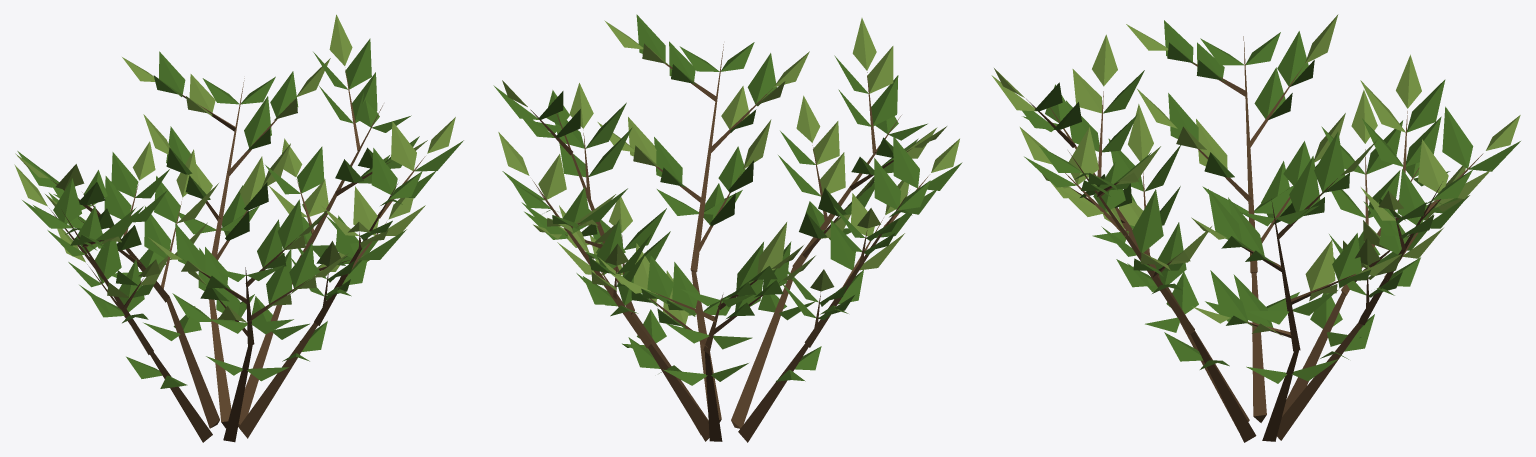
File: plant.glb
3 views of the same model, side by side, from view 1: azimuth 30°, elevation 25°; view 2: azimuth 150°, elevation 25°; view 3: azimuth 270°, elevation 25° (orthographic). The views are drawn at different scales.
Parts seen in each view (by area): view 1: plant-lod0; view 2: plant-lod0; view 3: plant-lod0.
Part boxes in pixels (bbox=[...]): plant-lod0: bbox=[14, 14, 463, 442]; plant-lod0: bbox=[493, 14, 962, 442]; plant-lod0: bbox=[991, 14, 1520, 442].
Size of the model in its own units: 2.7 by 2.4 by 2.99.
